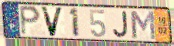1: (68, 7, 81, 38)
5: (88, 9, 107, 38)
J: (112, 10, 130, 39)
M: (129, 9, 158, 41)
P: (18, 5, 42, 38)
V: (40, 5, 66, 38)
